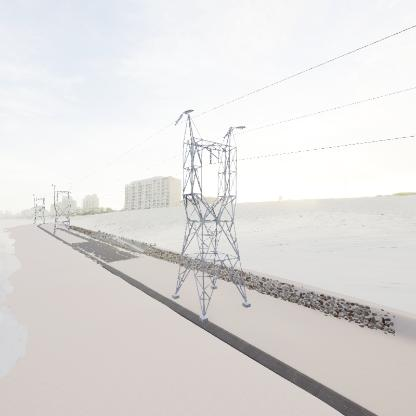tower: (171, 109, 254, 318), (49, 182, 74, 241)
